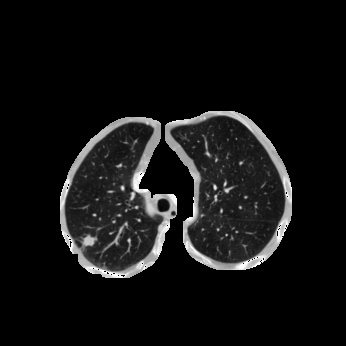PN: (82, 235, 94, 247)
